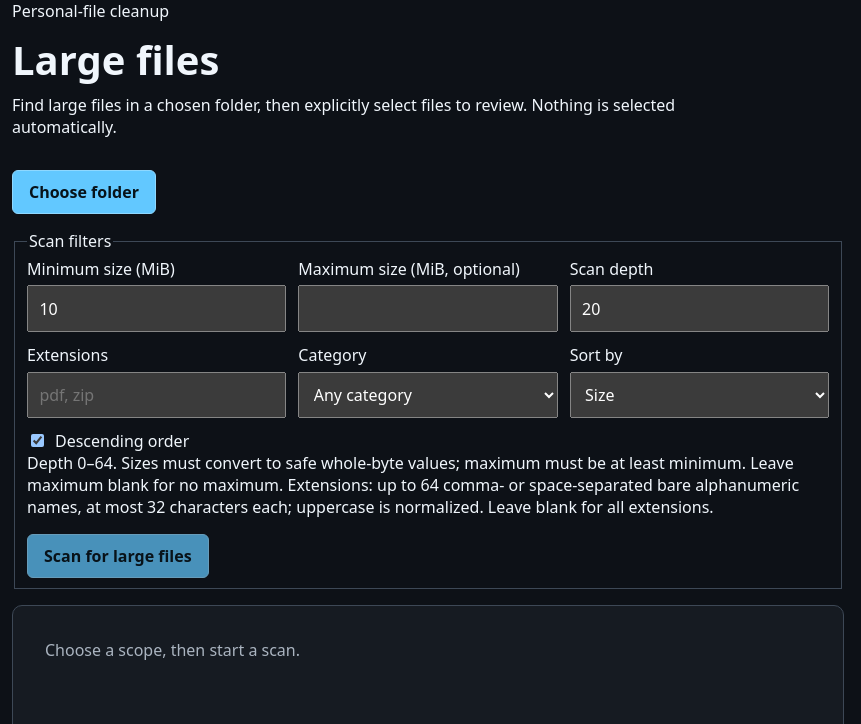
Test: clears stale selection and results on Minimum size (MiB) change
Click the button "Choose folder".
click(84, 192)  # box [12,170,156,214]
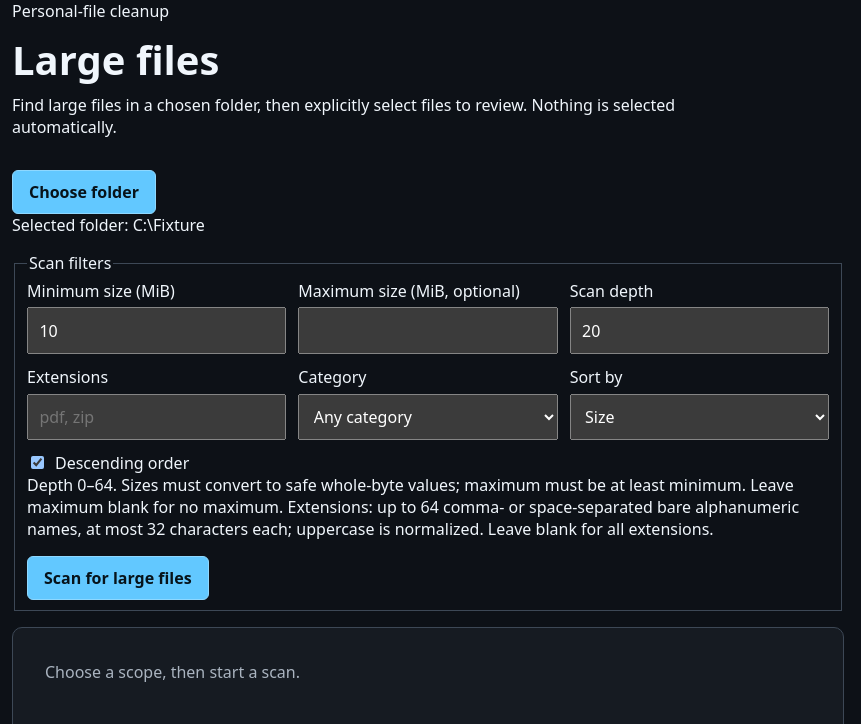
Now the button "Scan for large files" is enabled
Click the button "Scan for large files".
click(118, 578)  # box [27,556,209,600]
(page scrolled)
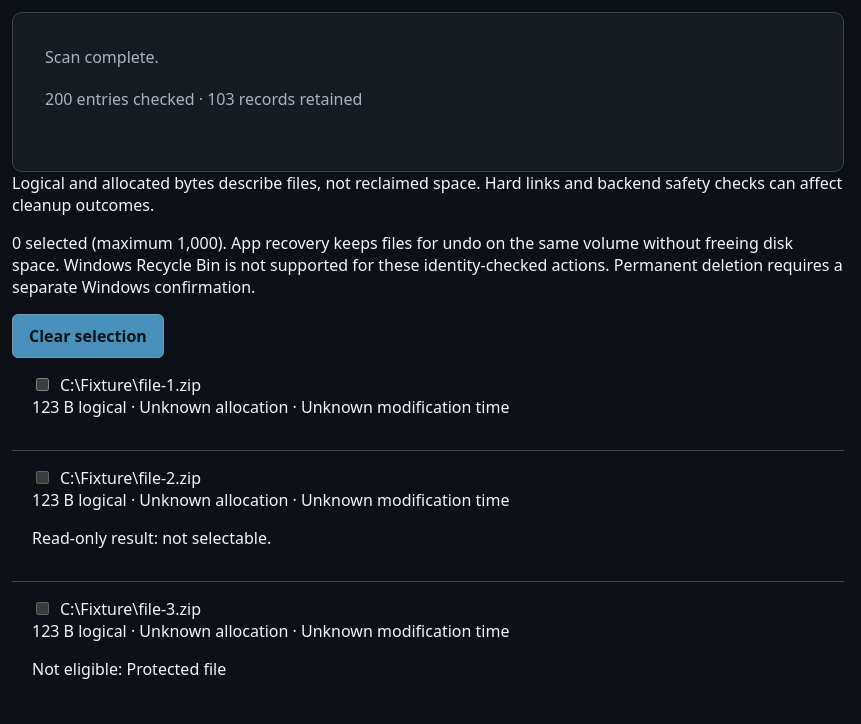
Now the list named "Large file results" is shown, box [12,358,844,712]
Click the checkbox labelled "C:\\Fixture\\file-1.zip".
click(42, 385)  # box [36,378,49,391]
(page scrolled)
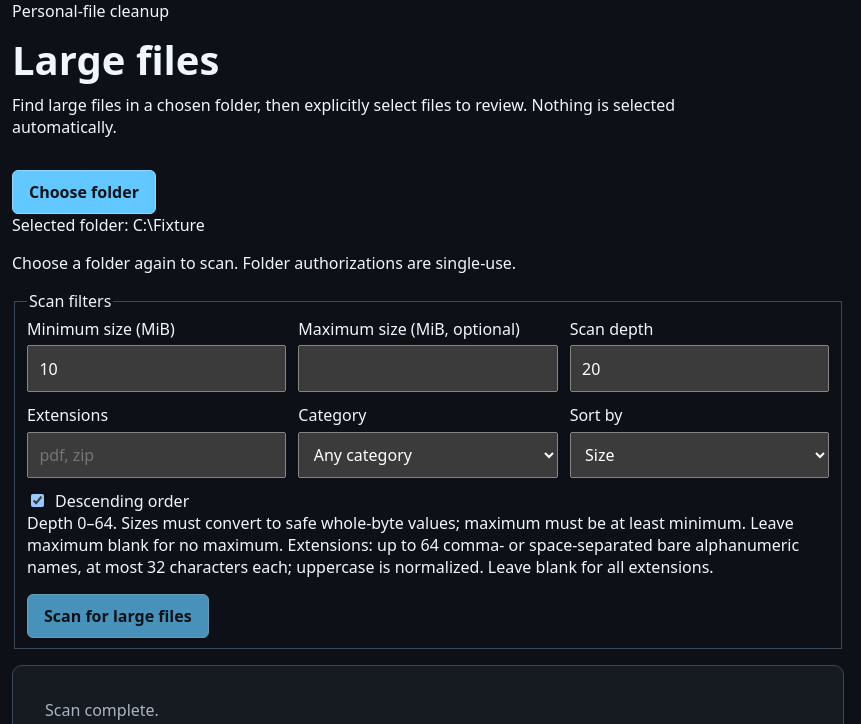
Replace the text in the number field labelled "Minimum size (MiB)" with "1" at (157, 369), box [27,345,286,392]
(page scrolled)
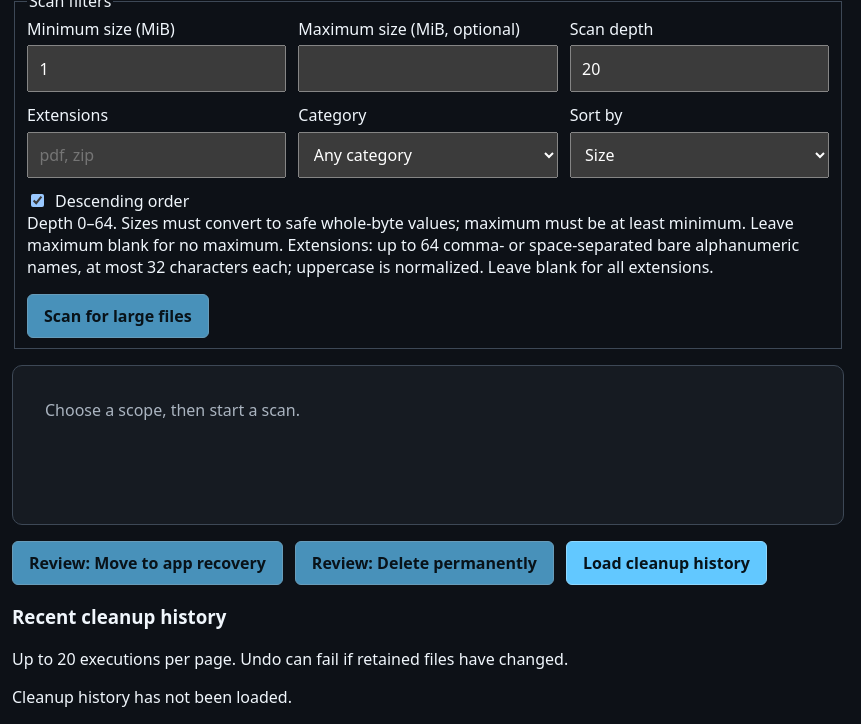
Now the button "Review: Move to app recovery" is disabled, box [12,541,283,585]
